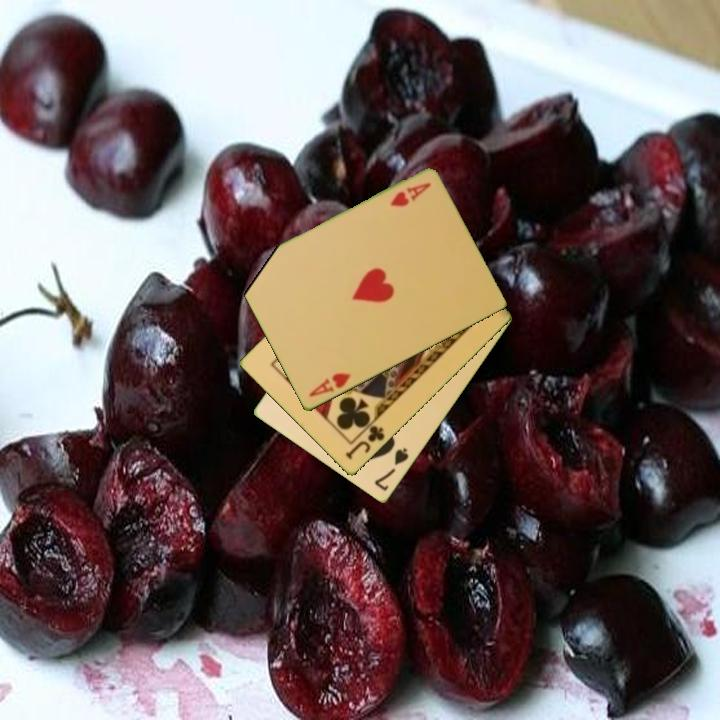7s: (371, 444, 412, 494)
Ah: (305, 369, 354, 400), (387, 179, 434, 210)
Jc: (342, 422, 388, 463)
